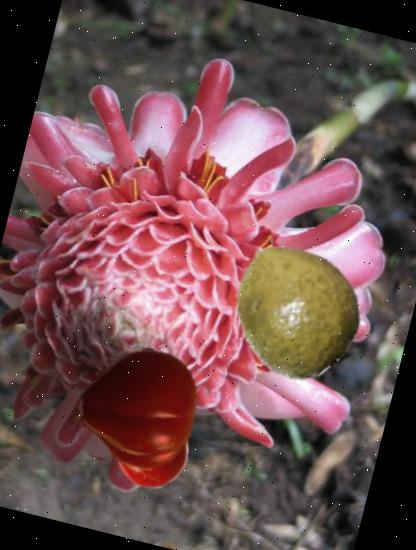Guava: (212, 226, 377, 392)
Tomato: (65, 336, 214, 483), (104, 402, 199, 497)
